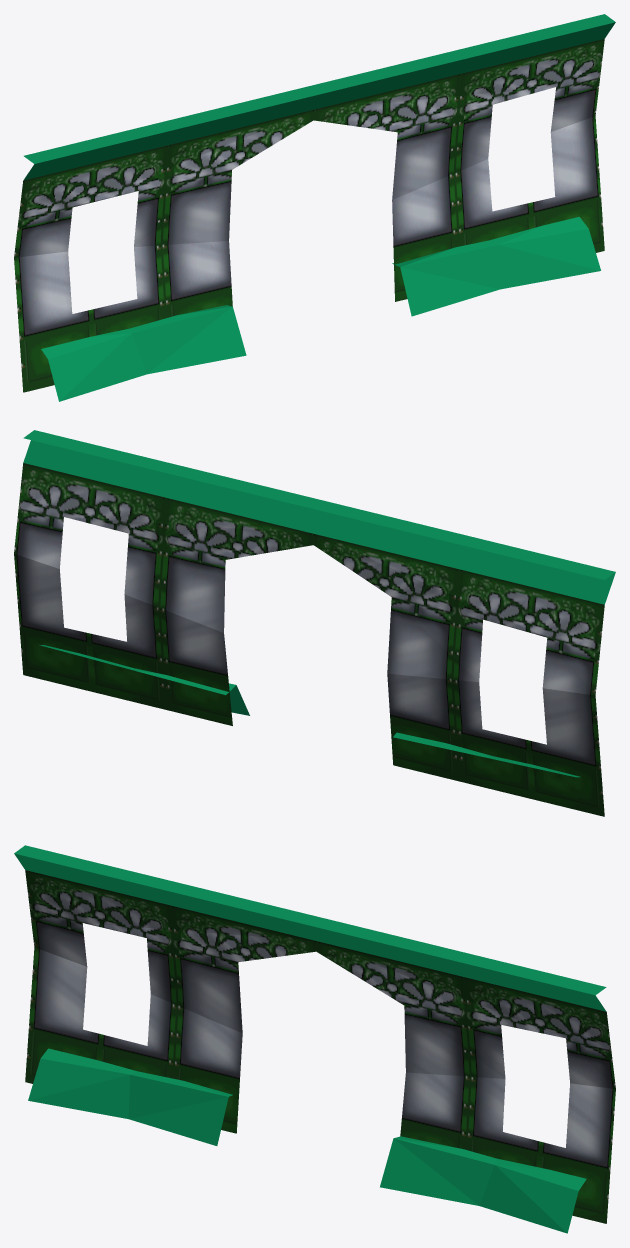
File: W_A3_fOf_Verschoben_259.glb
3 renders of one model, top to bottom at view 1: azimuth 30°, elevation 25°; view 2: azimuth 150°, elevation 25°; view 3: azimuth 330°, elevation 25°, orthographic.
Visible parts, largest first — view 1: polySurfaceShape767, polySurfaceShape1054, polySurfaceShape906, polySurfaceShape905; view 2: polySurfaceShape767, polySurfaceShape1054, polySurfaceShape906, polySurfaceShape905; view 3: polySurfaceShape767, polySurfaceShape1054, polySurfaceShape906, polySurfaceShape905.
Part boxes in pixels (x1=…): polySurfaceShape767: x1=14, y1=39, x2=604, y2=392; polySurfaceShape1054: x1=23, y1=14, x2=615, y2=180; polySurfaceShape906: x1=392, y1=217, x2=600, y2=316; polySurfaceShape905: x1=41, y1=305, x2=246, y2=401; polySurfaceShape767: x1=14, y1=463, x2=604, y2=816; polySurfaceShape1054: x1=23, y1=430, x2=615, y2=604; polySurfaceShape906: x1=39, y1=645, x2=249, y2=715; polySurfaceShape905: x1=393, y1=732, x2=580, y2=777; polySurfaceShape767: x1=25, y1=870, x2=615, y2=1223; polySurfaceShape1054: x1=14, y1=845, x2=606, y2=1011; polySurfaceShape906: x1=380, y1=1136, x2=586, y2=1233; polySurfaceShape905: x1=28, y1=1048, x2=232, y2=1145.
Size of the model in its own units: 1 by 0.3926 by 0.0805.
Materials: 4 (1 with a texture image).
